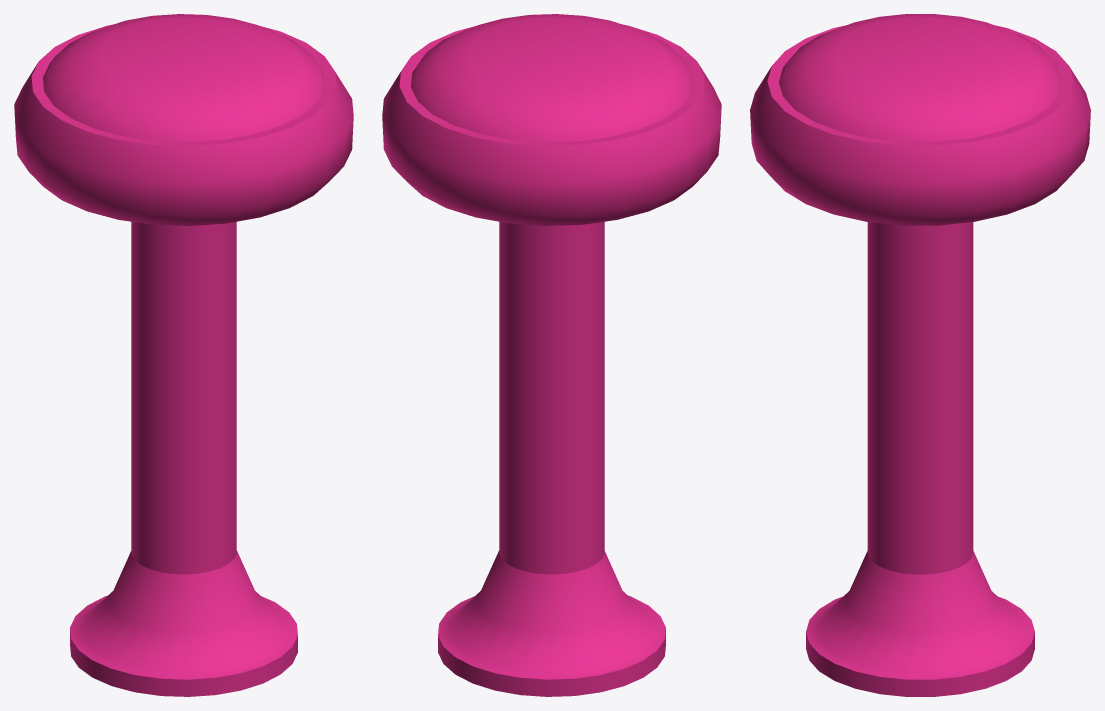
The model's file is Kruk 1.fbx.
3 views of the same model, side by side, from view 1: azimuth 30°, elevation 25°; view 2: azimuth 150°, elevation 25°; view 3: azimuth 270°, elevation 25° (orthographic).
Parts seen in each view (by area): view 1: Cylinder; view 2: Cylinder; view 3: Cylinder.
Part boxes in pixels (x1,y1,x2,y2): Cylinder: (14,14,353,696); Cylinder: (382,14,721,696); Cylinder: (750,14,1090,696).
Size of the model in its own units: 31.75 by 61.61 by 31.98.
